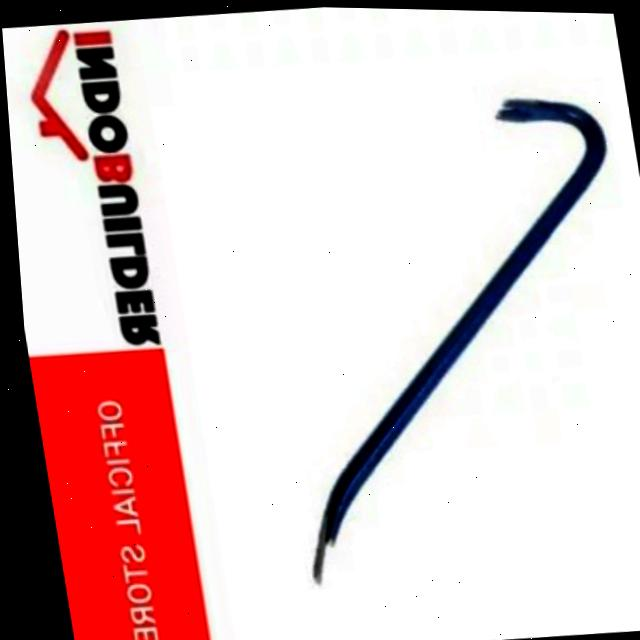crow bar: (305, 95, 601, 574)
